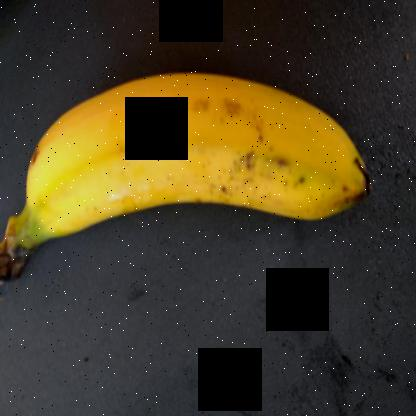ripe: (24, 62, 382, 298)
